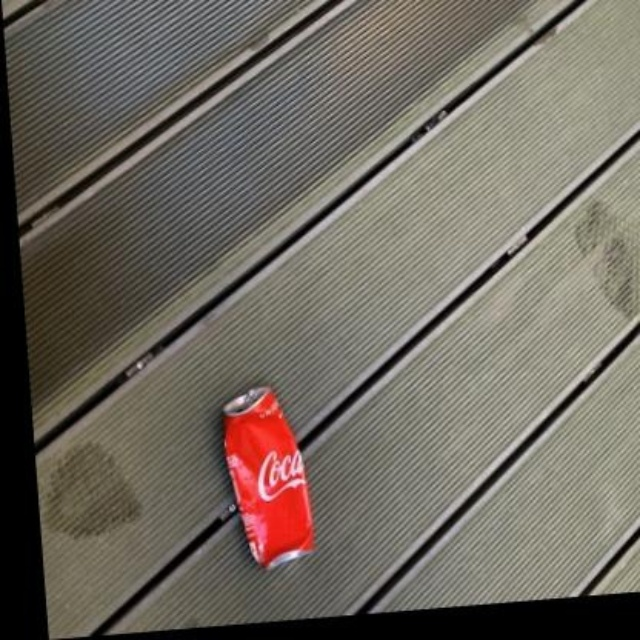trash: (222, 386, 314, 565)
